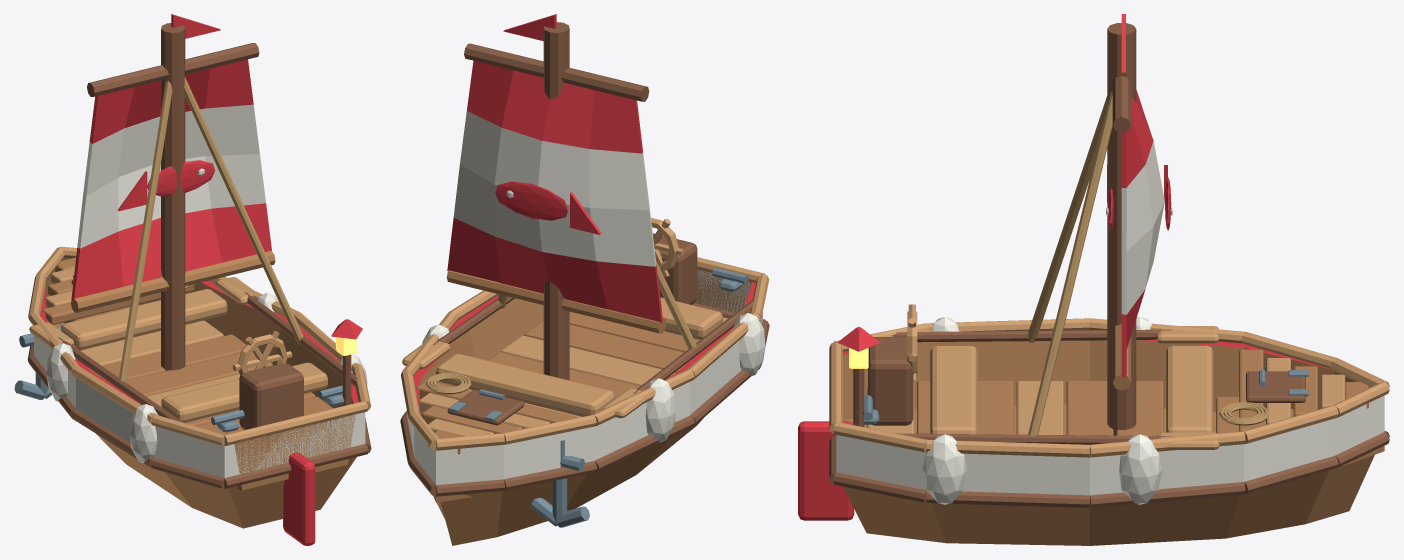
File: artea_sailing_boat.glb
3 views of the same model, side by side, from view 1: azimuth 30°, elevation 25°; view 2: azimuth 150°, elevation 25°; view 3: azimuth 270°, elevation 25° (orthographic). The views are drawn at different scales.
Parts seen in each view (by area): view 1: VillageStripedSail, SailingHull, Mast, Bench_1, HelmConsole, Bench_0, Rudder, SailBoom, Rigging_-1, Rigging_1, TopYard, DeckBoard_4 (+27 smaller); view 2: VillageStripedSail, SailingHull, Bench_1, Mast, TopYard, DeckBoard_3, DeckBoard_2, SailBoom, SailFishEmblem_Front, HelmConsole, DeckBoard_1, Fender_-1_0.55 (+32 smaller); view 3: SailingHull, VillageStripedSail, Mast, Bench_0, Bench_1, Rudder, HelmConsole, Rigging_1, Rigging_-1, DeckBoard_4, Fender_1_-1.6, Fender_1_0.55 (+30 smaller).
Boxes of the visible parts, x1,y1,x2,y2 form: VillageStripedSail: (71, 59, 271, 300); SailingHull: (34, 258, 365, 528); Mast: (161, 23, 185, 370); Bench_1: (61, 289, 227, 349); HelmConsole: (239, 363, 303, 429); Bench_0: (161, 362, 327, 422); Rudder: (283, 452, 315, 545); SailBoom: (71, 250, 275, 312); Rigging_-1: (118, 81, 172, 382); Rigging_1: (184, 77, 303, 345); TopYard: (87, 43, 259, 96); DeckBoard_4: (126, 352, 272, 396); VillageStripedSail: (447, 60, 662, 322); SailingHull: (407, 269, 762, 545); Bench_1: (436, 353, 614, 416); Mast: (543, 22, 569, 380); TopYard: (464, 43, 649, 101); DeckBoard_3: (501, 335, 675, 386); DeckBoard_2: (524, 320, 690, 372); SailBoom: (446, 270, 666, 333); SailFishEmblem_Front: (495, 181, 568, 220); HelmConsole: (653, 233, 697, 304); DeckBoard_1: (569, 311, 700, 352); Fender_-1_0.55: (645, 378, 675, 442); SailingHull: (836, 339, 1384, 545); VillageStripedSail: (1121, 90, 1164, 377); Mast: (1107, 23, 1136, 435); Bench_0: (930, 345, 977, 434); Bench_1: (1166, 345, 1213, 432); Rudder: (798, 421, 854, 520); HelmConsole: (868, 337, 913, 425); Rigging_1: (1028, 91, 1112, 436); Rigging_-1: (1028, 96, 1107, 342); DeckBoard_4: (1066, 381, 1113, 435); Fender_1_-1.6: (922, 434, 966, 504); Fender_1_0.55: (1119, 434, 1162, 504).
Size of the model in its own units: 3.47 by 6.15 by 6.53.
